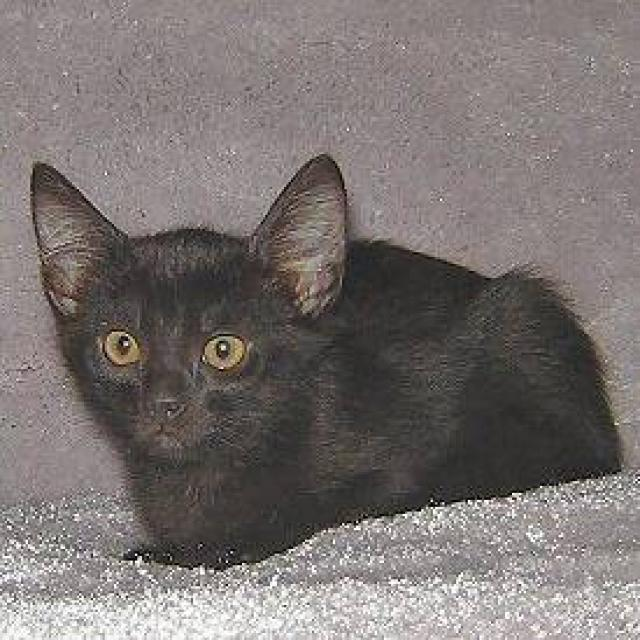cat: (28, 152, 624, 570)
